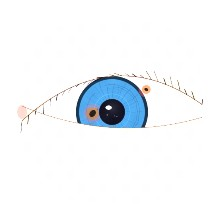foreign_body_visible: (136, 81, 156, 98)
